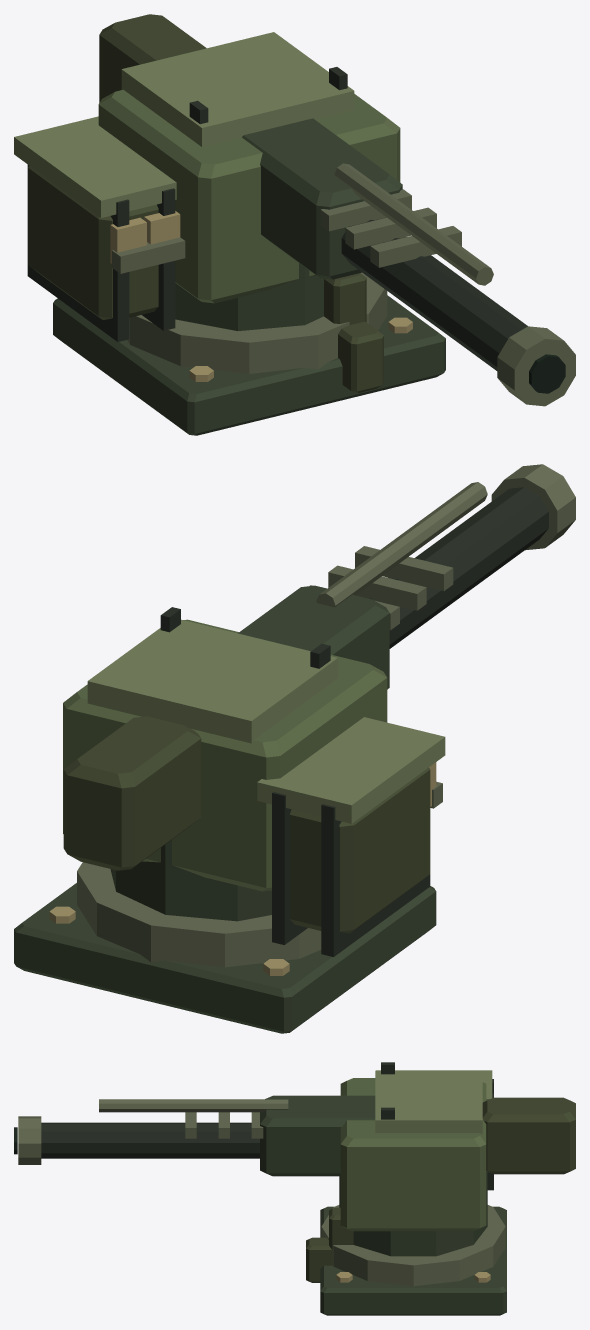
The model's file is akTurret.obj.
3 views of the same model, one above another, from view 1: azimuth 30°, elevation 25°; view 2: azimuth 150°, elevation 25°; view 3: azimuth 270°, elevation 25° (orthographic). The views are drawn at different scales.
Visible parts, largest first — view 1: MOVING.003, BASE.009; view 2: MOVING.003, BASE.009; view 3: MOVING.003, BASE.009.
Boxes of the visible parts, x1=… form: MOVING.003: x1=14, y1=14, x2=575, y2=406; BASE.009: x1=53, y1=272, x2=445, y2=435; MOVING.003: x1=63, y1=464, x2=575, y2=956; BASE.009: x1=14, y1=862, x2=436, y2=1033; MOVING.003: x1=14, y1=1062, x2=575, y2=1282; BASE.009: x1=320, y1=1205, x2=506, y2=1315.
Size of the model in its own units: 0.9225 by 0.815 by 2.2.
Materials: 1 (1 with a texture image).
